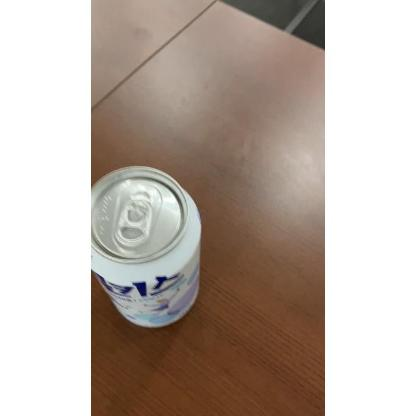Can: (92, 160, 206, 332)
